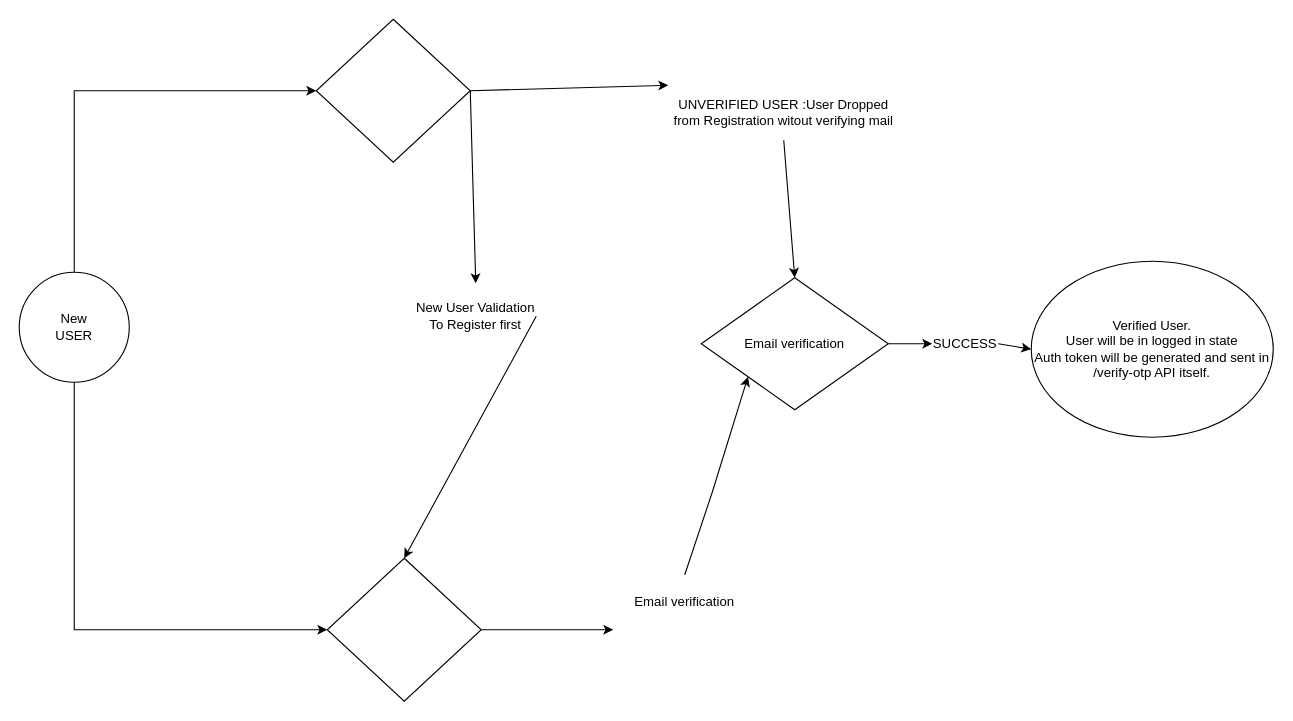
The diagram is 1293 pixels wide and 721 high, and some of its shapes have lost their labels. Each missing label, with the centre of its shape:
"Login" belongs at point (392, 90).
"Register" belongs at point (403, 629).
